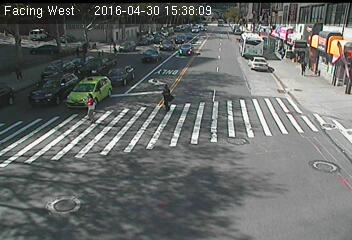neg: (197, 151, 233, 199), (151, 136, 184, 179), (302, 154, 333, 195), (237, 44, 261, 76), (43, 32, 67, 64), (321, 41, 345, 73), (255, 123, 278, 154), (39, 165, 62, 195), (286, 86, 307, 115), (76, 159, 96, 186), (223, 102, 243, 127), (109, 144, 126, 168), (99, 34, 116, 57), (194, 36, 210, 57), (126, 29, 140, 46)
pos: (152, 80, 178, 115), (80, 91, 104, 123), (11, 62, 26, 82), (298, 58, 311, 76)
